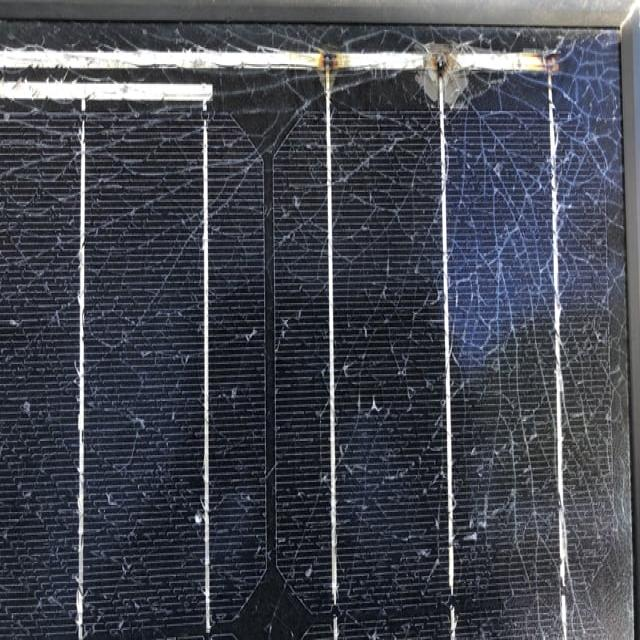Electrical-damage: (413, 39, 474, 123), (310, 22, 358, 99), (531, 46, 582, 92)
